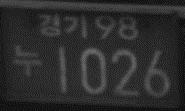0: (80, 46, 107, 92)
1: (49, 46, 76, 94)
2: (111, 49, 140, 97)
6: (144, 51, 170, 98)
8: (118, 14, 139, 40)
9: (94, 14, 116, 40)
경기_O: (38, 12, 88, 38)
누: (12, 44, 42, 77)
